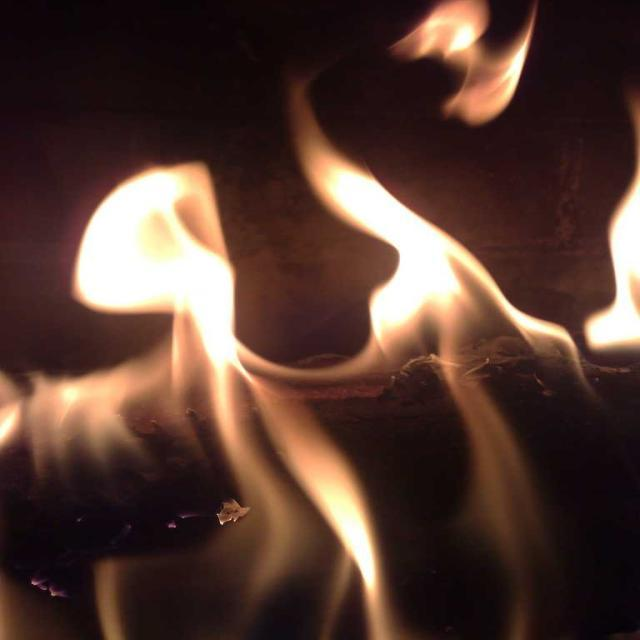Fire: (116, 178, 208, 312), (400, 236, 469, 310)
